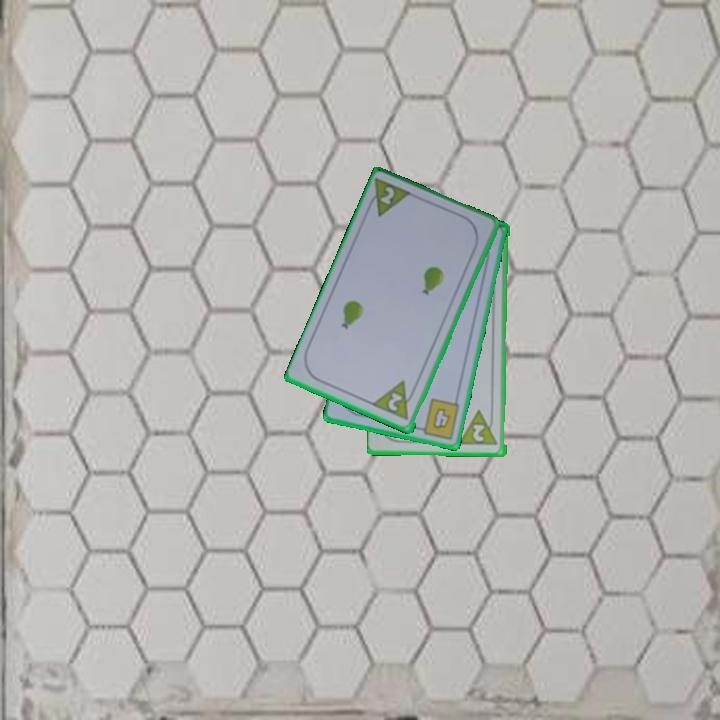2p: (384, 389, 406, 414), (377, 183, 398, 208), (469, 421, 487, 445)
4b: (413, 395, 463, 442)
